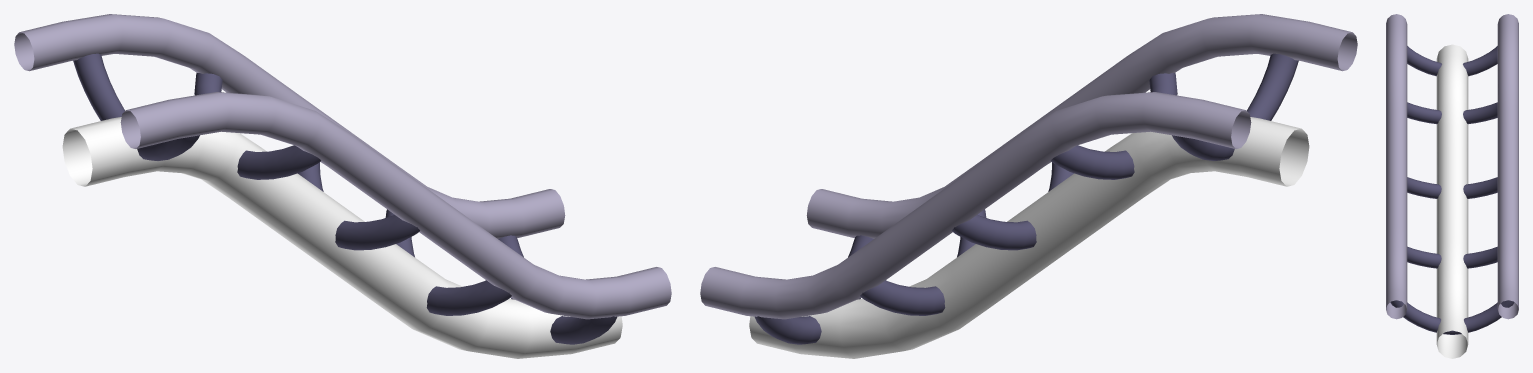
The model's file is step_down.obj.
3 renders of one model, left to right at view 1: azimuth 30°, elevation 25°; view 2: azimuth 150°, elevation 25°; view 3: azimuth 270°, elevation 25°, orthographic. The views are drawn at different scales.
Visible parts, largest first — view 1: Plane.314_Mesh; view 2: Plane.314_Mesh; view 3: Plane.314_Mesh.
Boxes of the visible parts, bbox=[...] form: Plane.314_Mesh: bbox=[14, 14, 671, 358]; Plane.314_Mesh: bbox=[700, 14, 1357, 358]; Plane.314_Mesh: bbox=[1386, 14, 1518, 358].
Bounding box in the file's own units: 6.63 × 4.76 × 2.74.
Materials: 1 (1 with a texture image).
